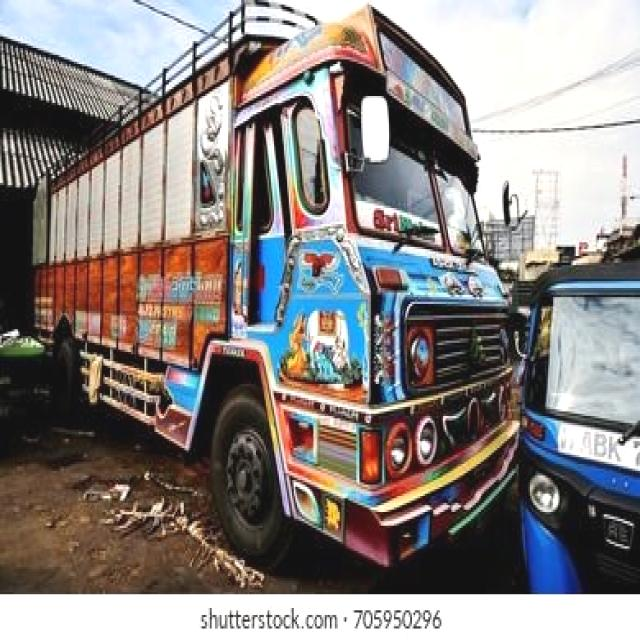Truck: (19, 0, 526, 580)
